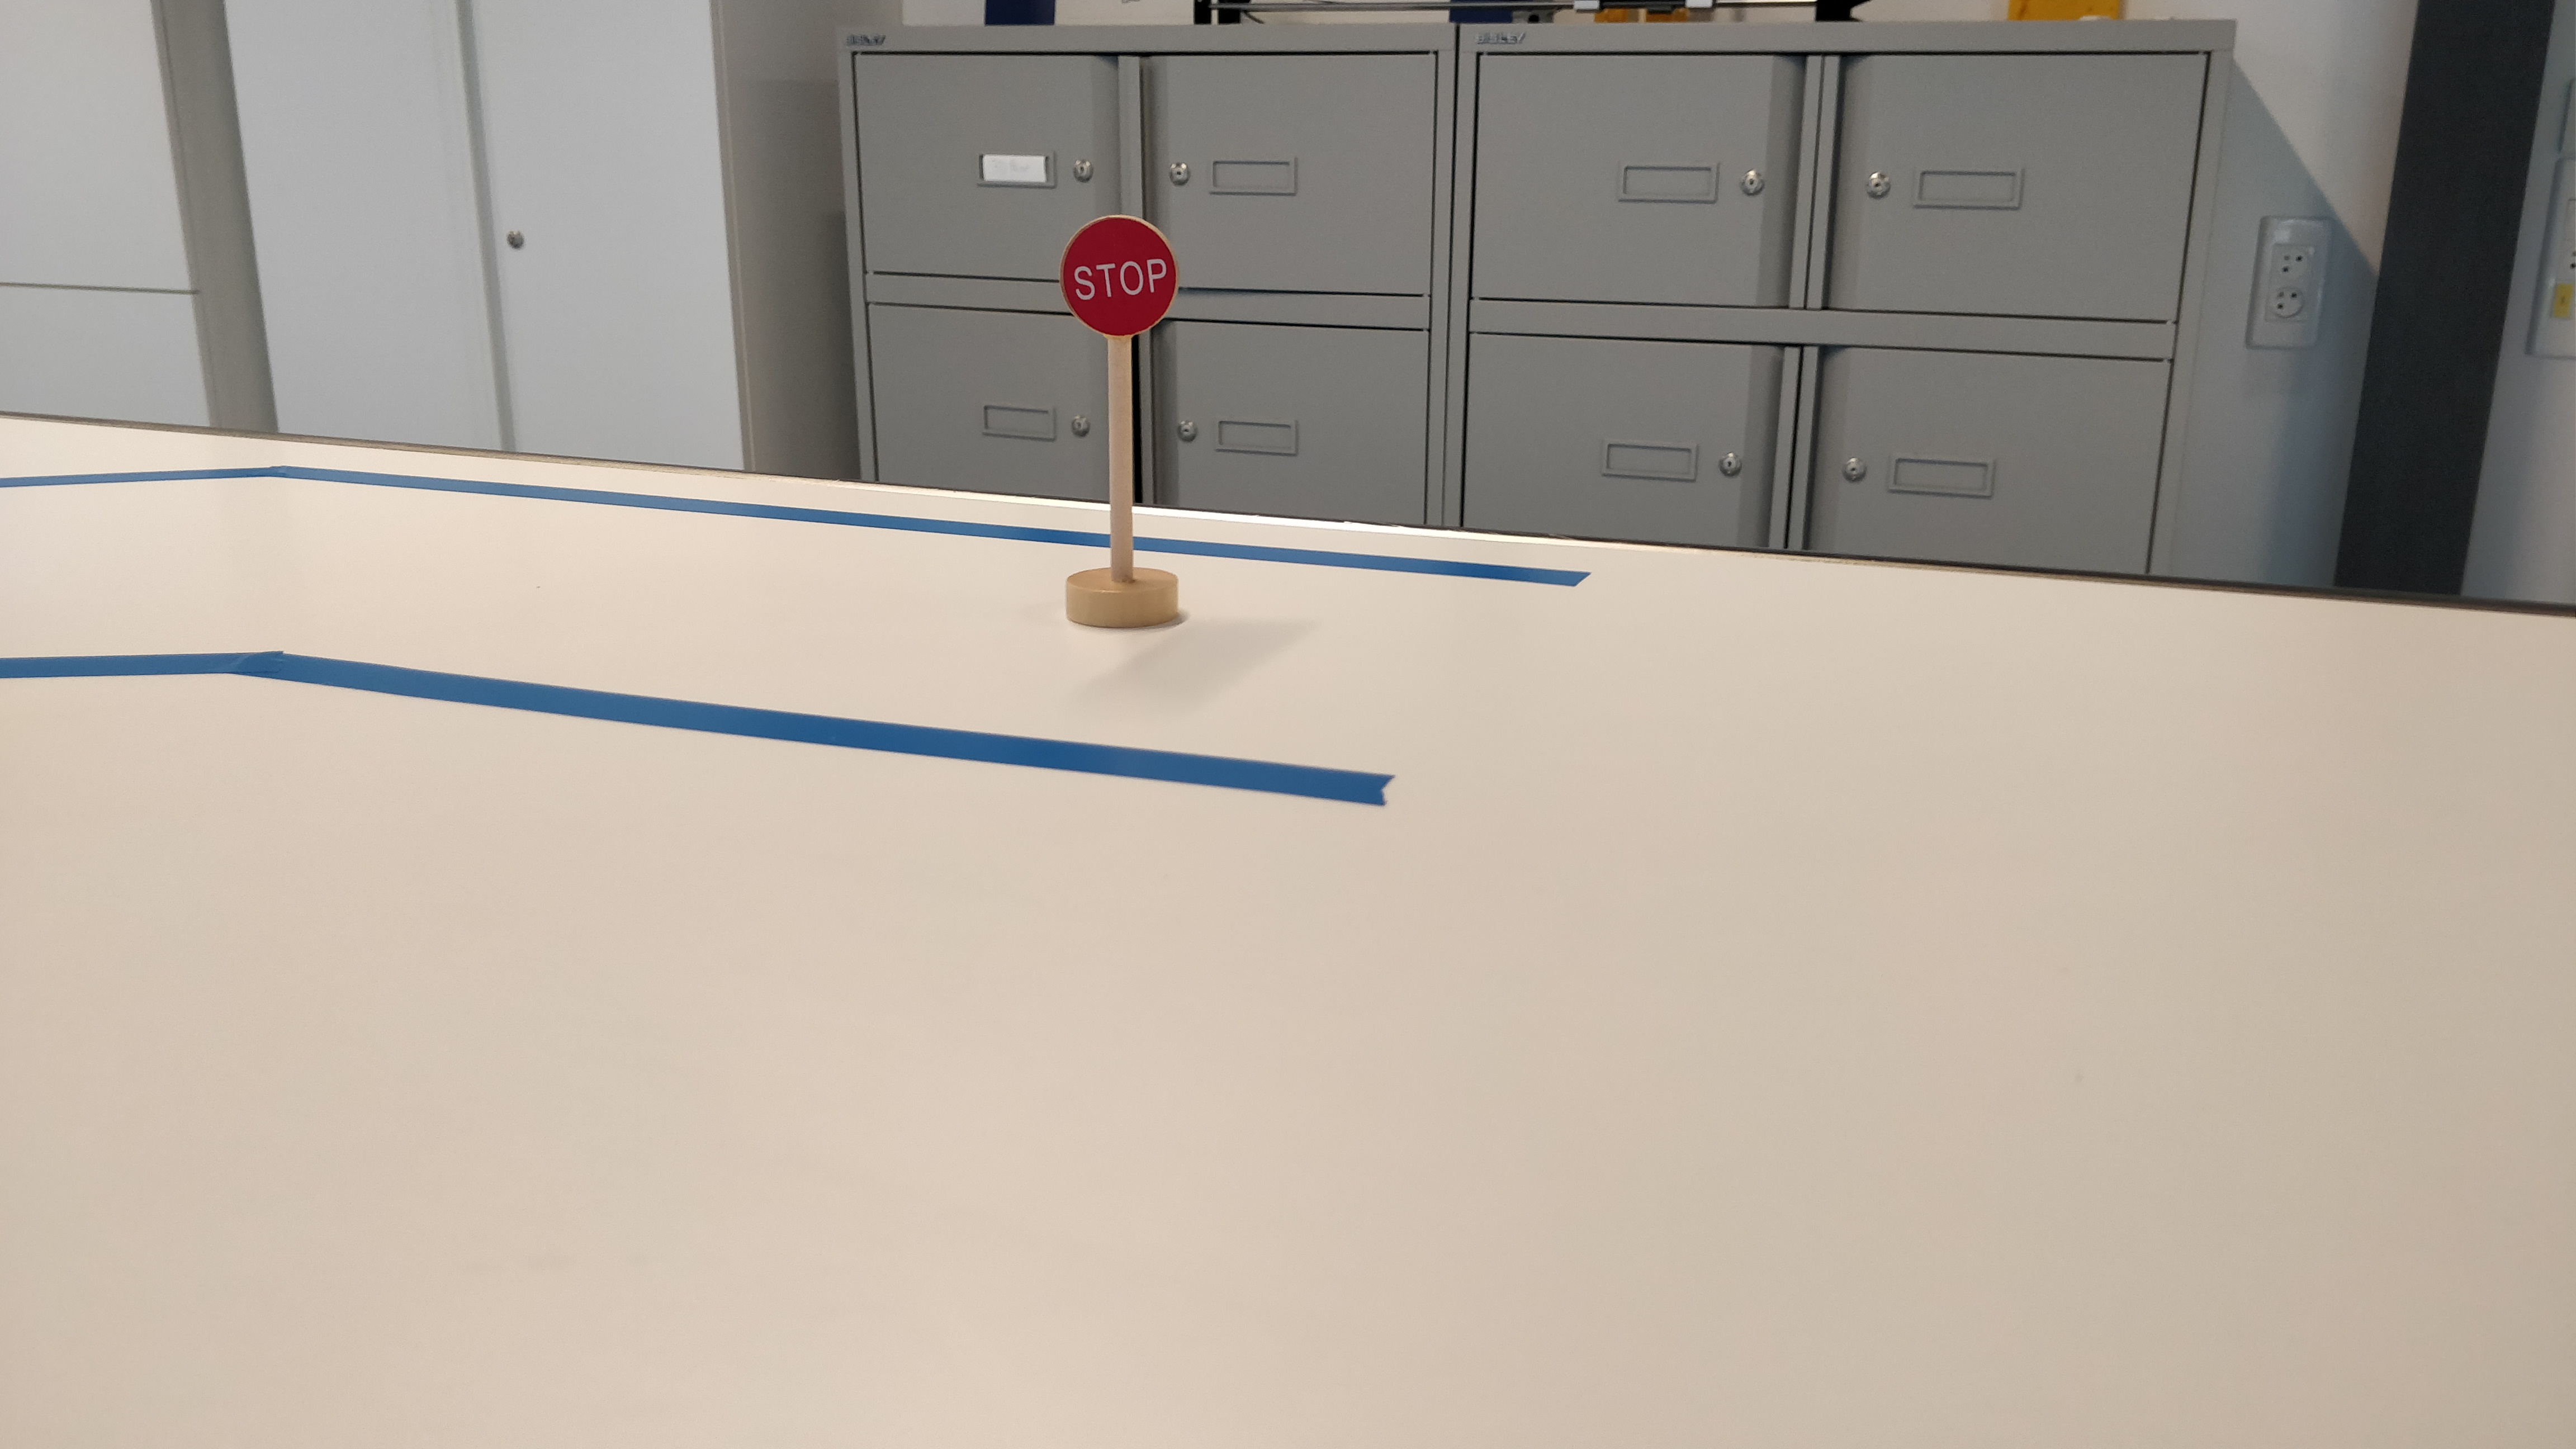Stop Sign: (1061, 214, 1180, 340)
